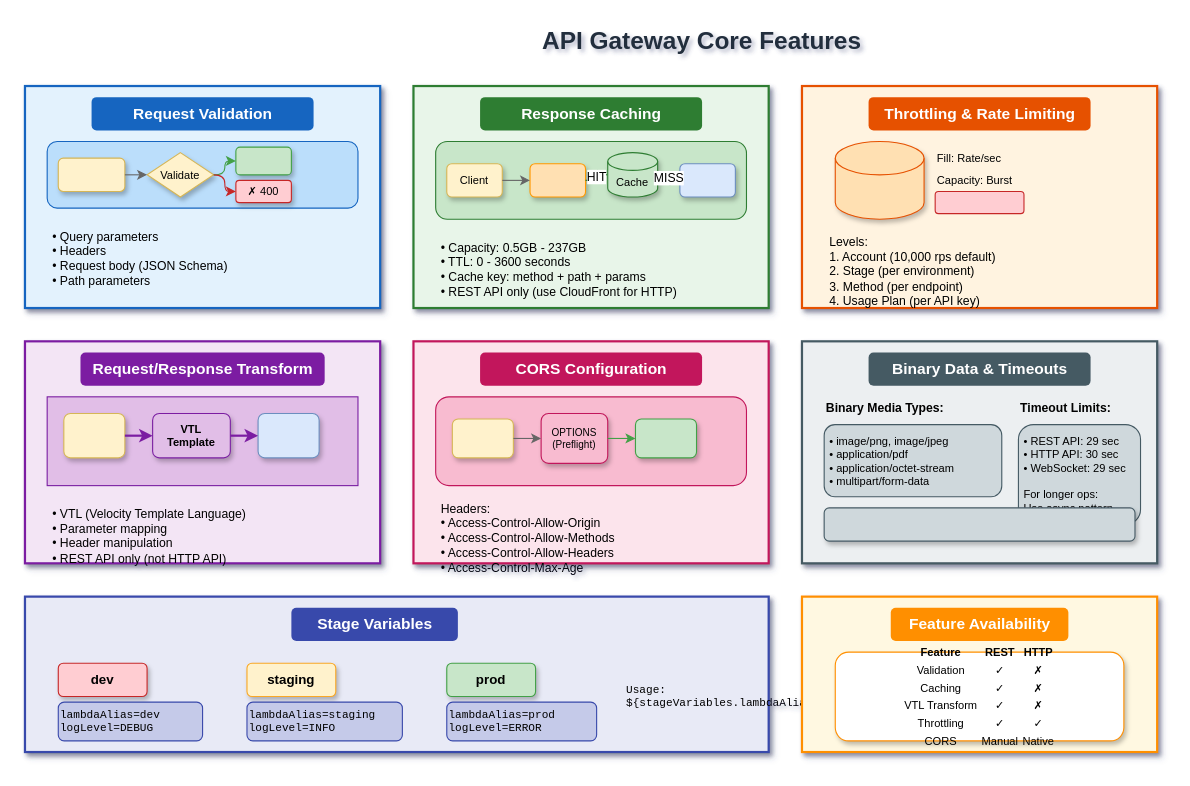
Some shapes in this 1190 by 786 pixel diagram are drawn without their labels. Here are the shapes that lost their labels. From the top down, the centre of each, then its label:
At pixel 92 176: "Request".
At pixel 264 162: "✓ Pass".
At pixel 558 181: "API GW".
At pixel 708 181: "Backend".
At pixel 880 181: "Token Bucket".
At pixel 979 202: "Empty → 429".
At pixel 95 437: "Client JSON".
At pixel 289 437: "Backend Format".
At pixel 483 439: "Browser".
At pixel 666 439: "CORS Headers".
At pixel 980 525: "Binary → Base64 encoded for Lambda".
